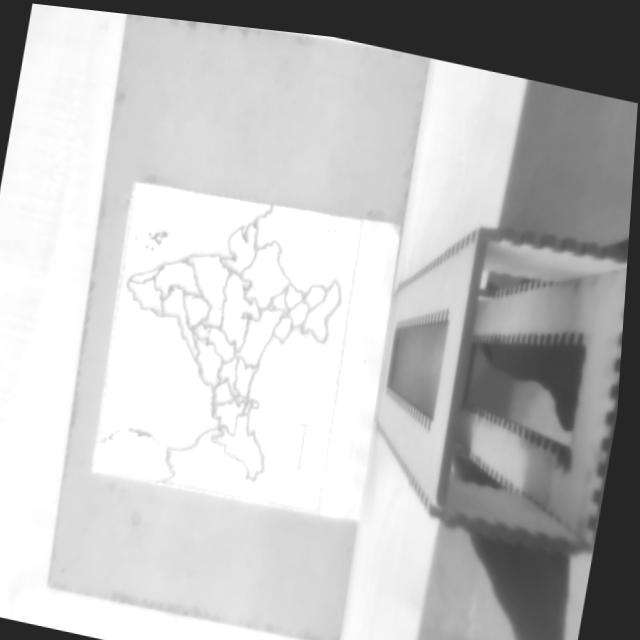map: (90, 182, 363, 512)
